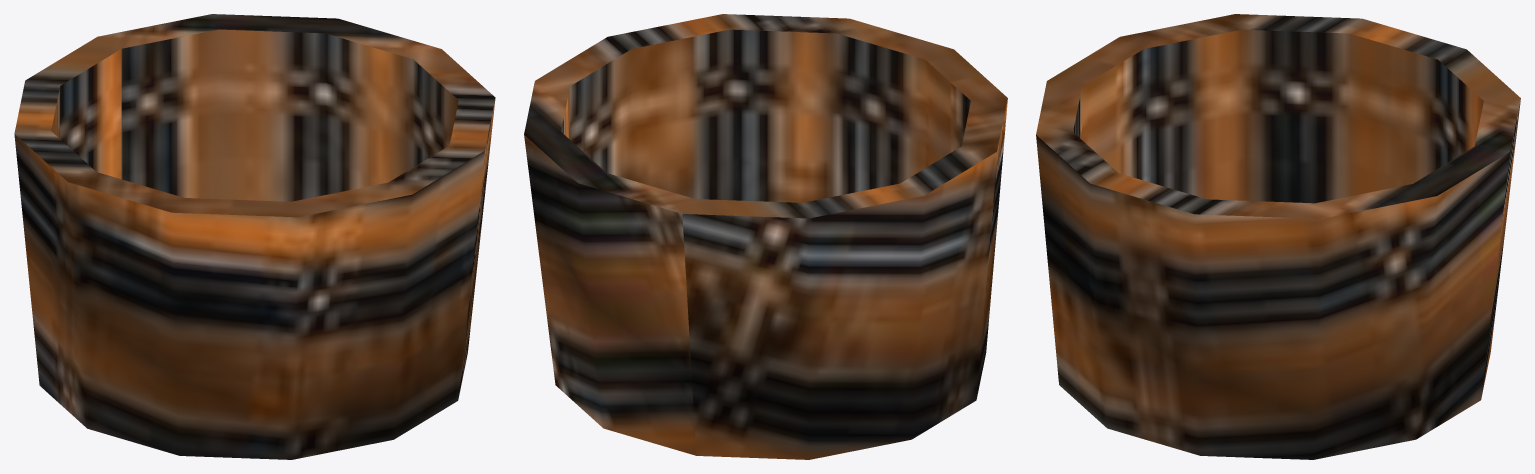
Rendered from tub.fbx.
3 renders of one model, left to right at view 1: azimuth 30°, elevation 25°; view 2: azimuth 150°, elevation 25°; view 3: azimuth 270°, elevation 25°, orthographic.
Parts seen in each view (by area): view 1: SketchUp; view 2: SketchUp; view 3: SketchUp.
Boxes of the visible parts, bbox=[...] form: SketchUp: bbox=[14, 14, 495, 459]; SketchUp: bbox=[524, 14, 1007, 459]; SketchUp: bbox=[1036, 14, 1520, 459].
Size of the model in its own units: 212 by 122 by 212.
1 material, 1 textured.
